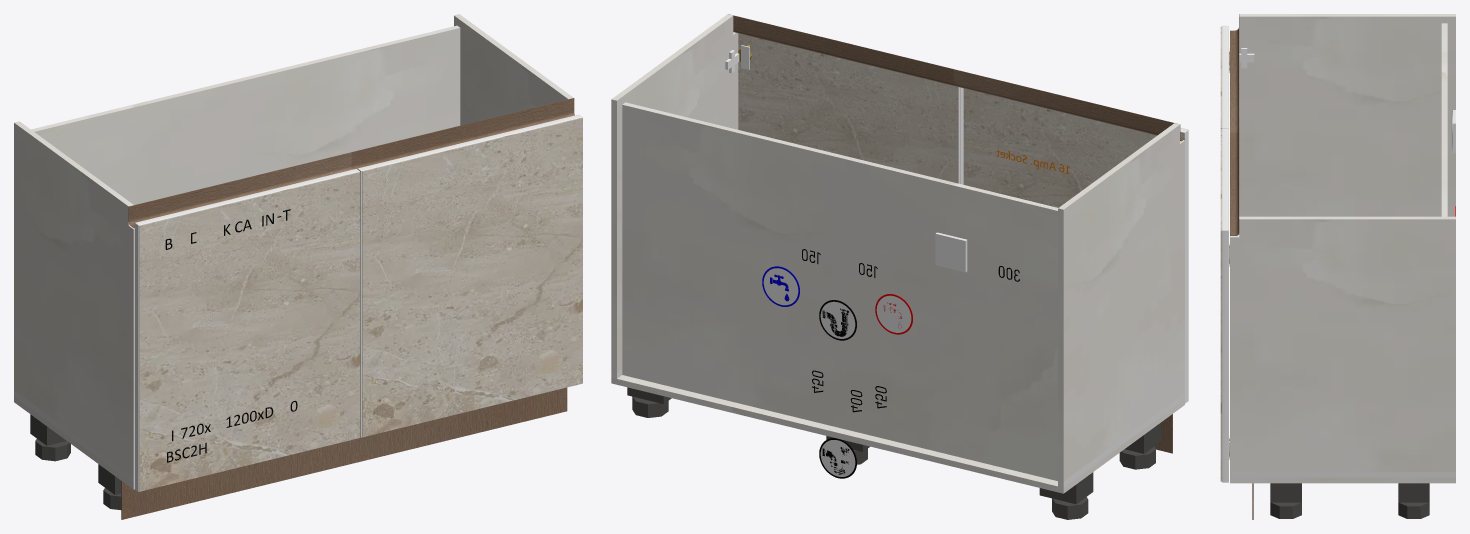
File: BSC2HS_CJ (H720xW1200xD560).glb
The picture shows the model from 3 angles, left to right: view 1: azimuth 30°, elevation 25°; view 2: azimuth 150°, elevation 25°; view 3: azimuth 270°, elevation 25°; orthographic projection. The views are drawn at different scales.
Size of what is drawn, in the model's own units: 1.2 by 0.82 by 0.5899.
17 materials, 3 textured.
